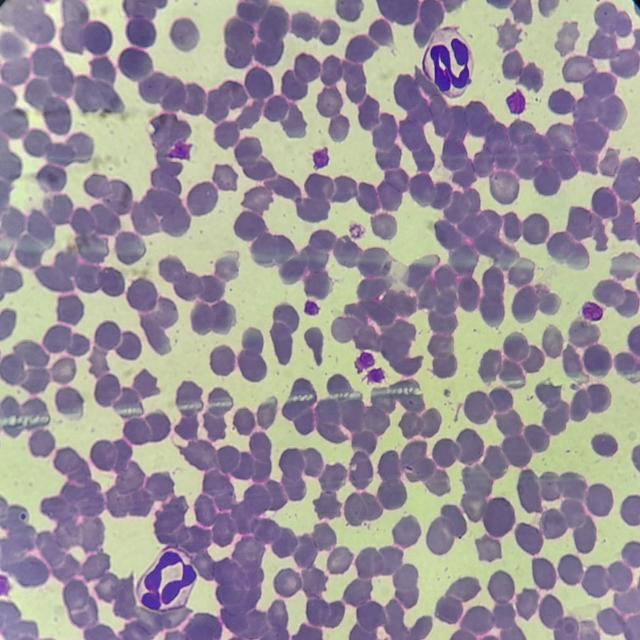Neutrofilo: (137, 552, 200, 611), (423, 31, 477, 94)
